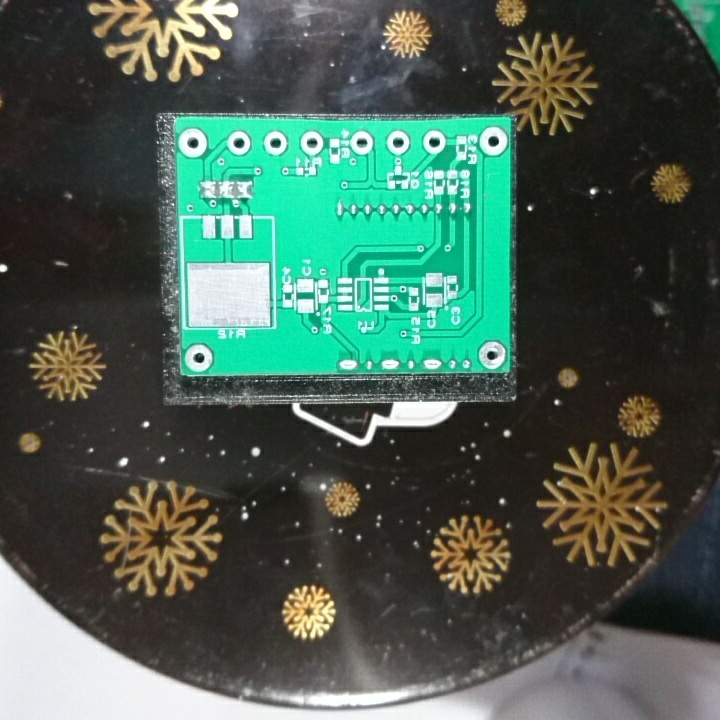F: (177, 125, 211, 160), (181, 343, 216, 374), (475, 339, 508, 371), (477, 123, 507, 158), (418, 127, 449, 160), (348, 127, 377, 159), (260, 128, 289, 158), (224, 129, 254, 157), (383, 129, 412, 157), (297, 129, 324, 158)
P: (377, 355, 403, 372), (420, 355, 445, 372), (334, 357, 362, 372)
